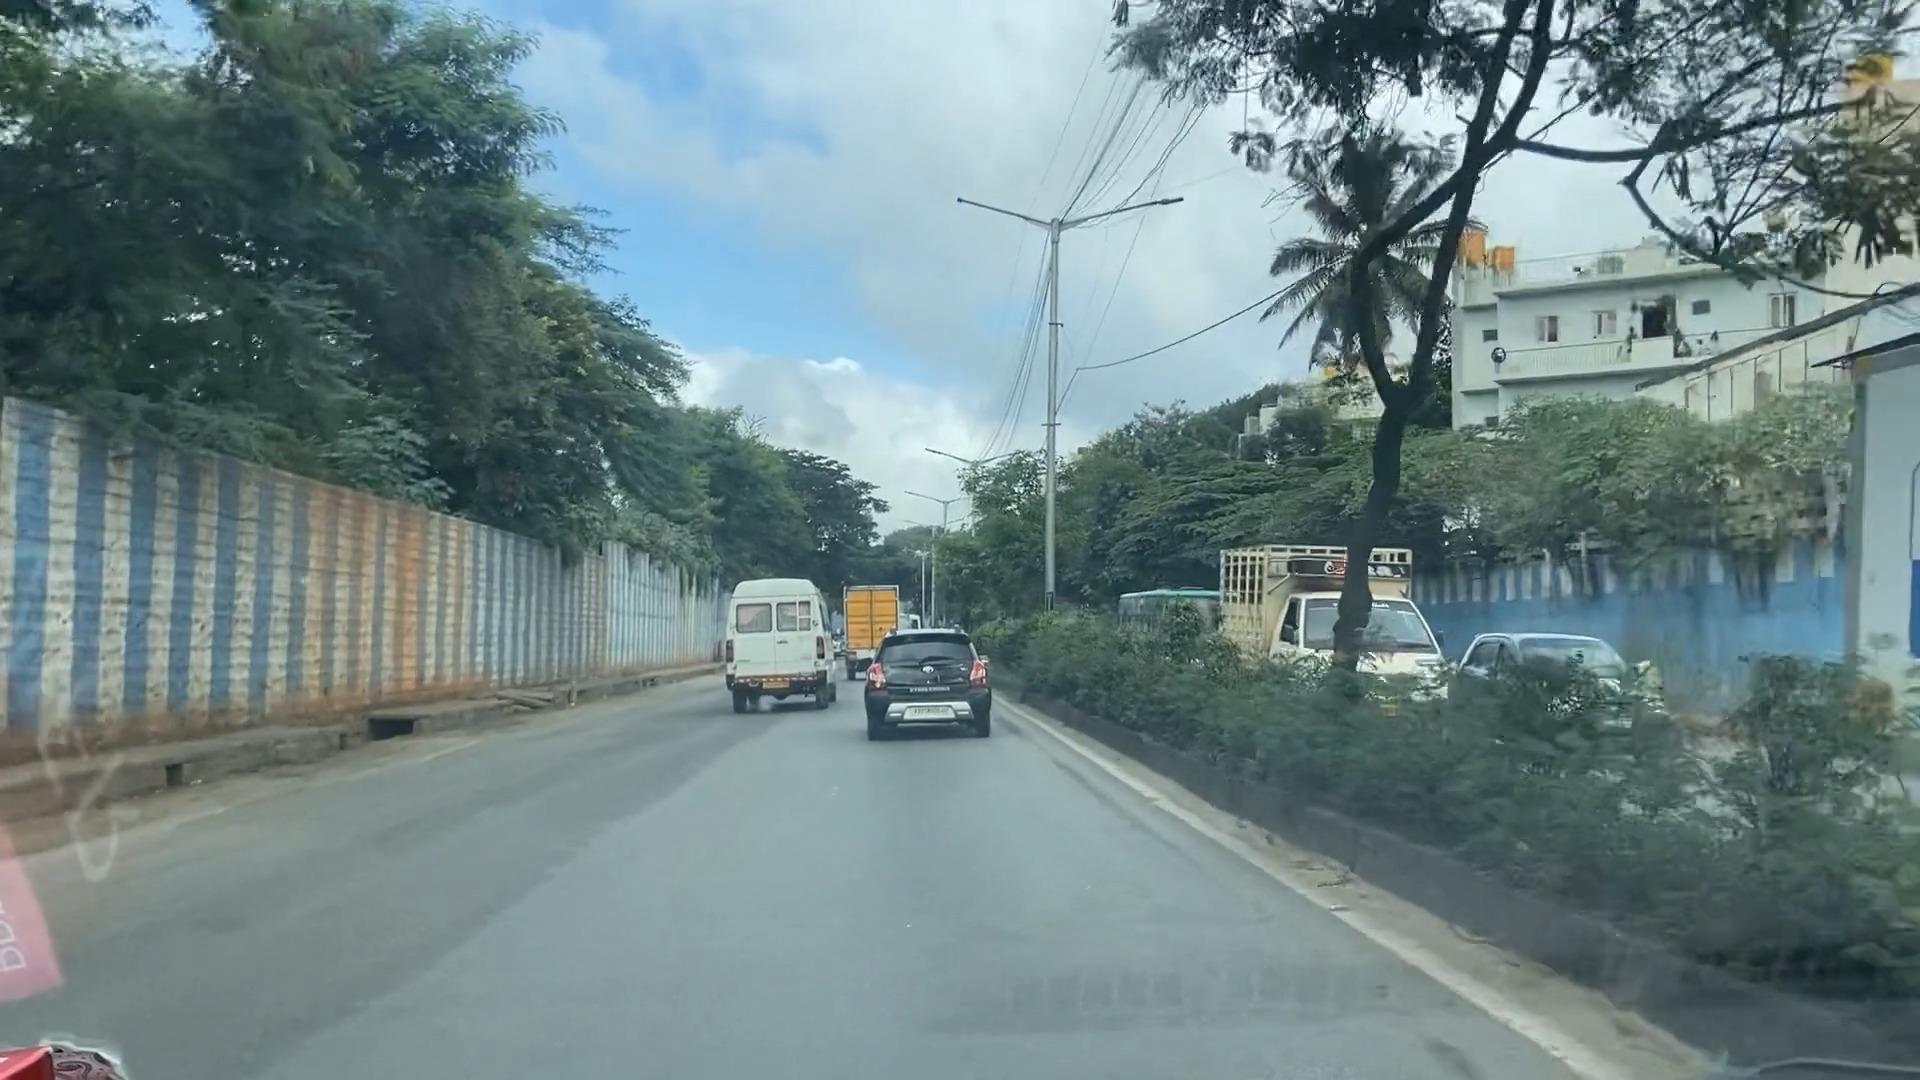HMV: (717, 576, 827, 707)
LMV: (872, 626, 994, 725)
UnsurfacedRoad: (252, 816, 560, 1043)
